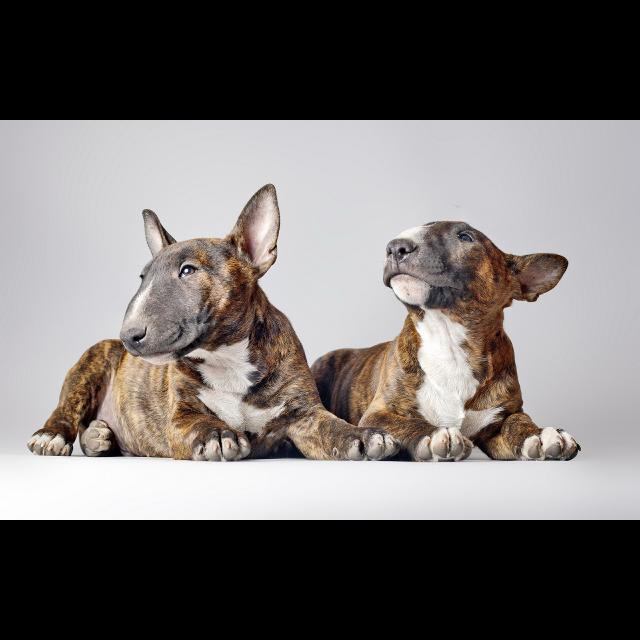bullterrier: (28, 184, 402, 463), (310, 221, 582, 463)
